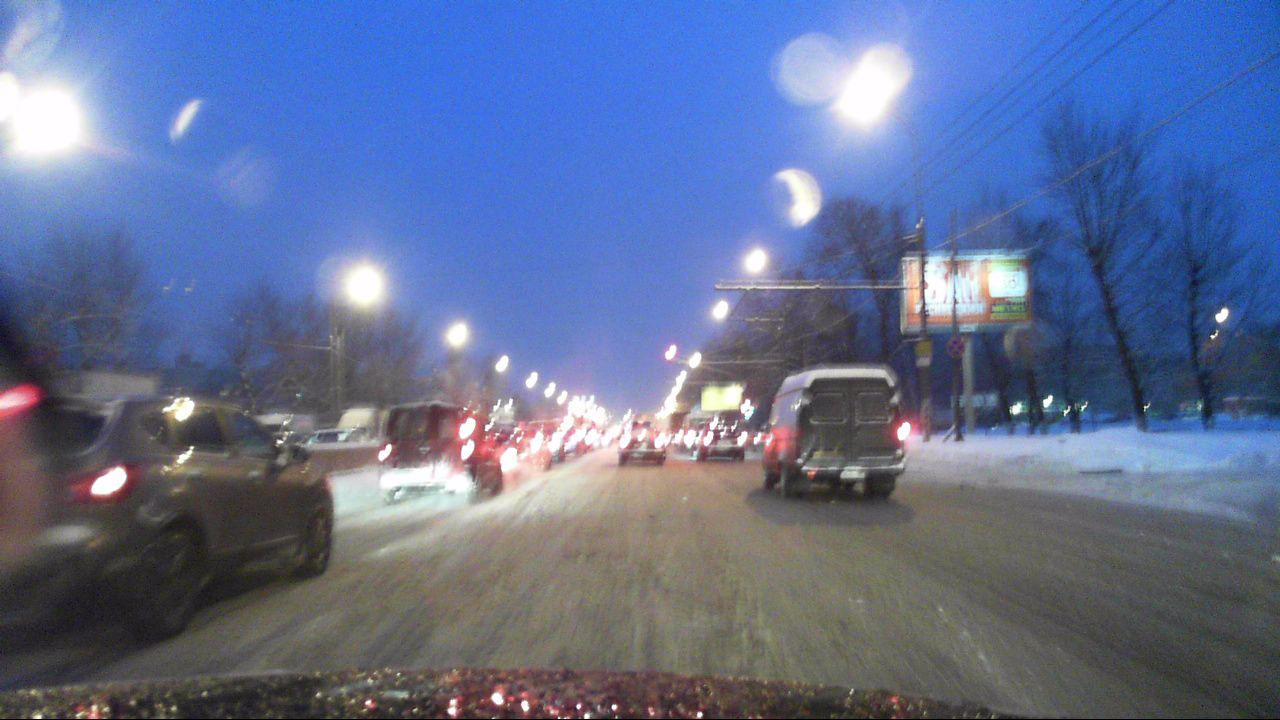No Parking: (944, 337, 967, 359)
